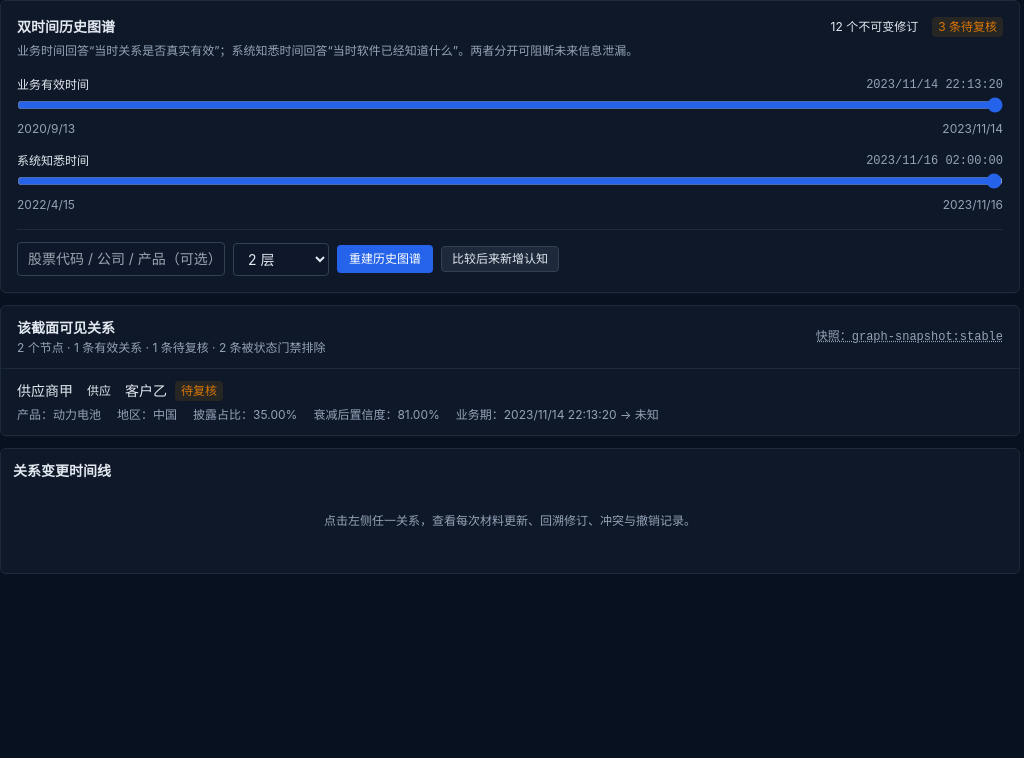
Test: 双时间历史图谱工作台 › 明确区分两种时间并可展开完整关系修订时间线
Expected: the text "双时间历史图谱" is shown, [17,18,115,35]
Expected: the text "业务时间回答“当时关系是否真实有效”；系统知悉时间回答“当时软件已经知道什么”。两者分开可阻断未来信息泄漏。" is shown, [17,41,638,61]
What coordinates should you click on to do the following:
click the text "供应商甲"
I would click on:
 (45, 391)
Its box is [17,381,73,401].
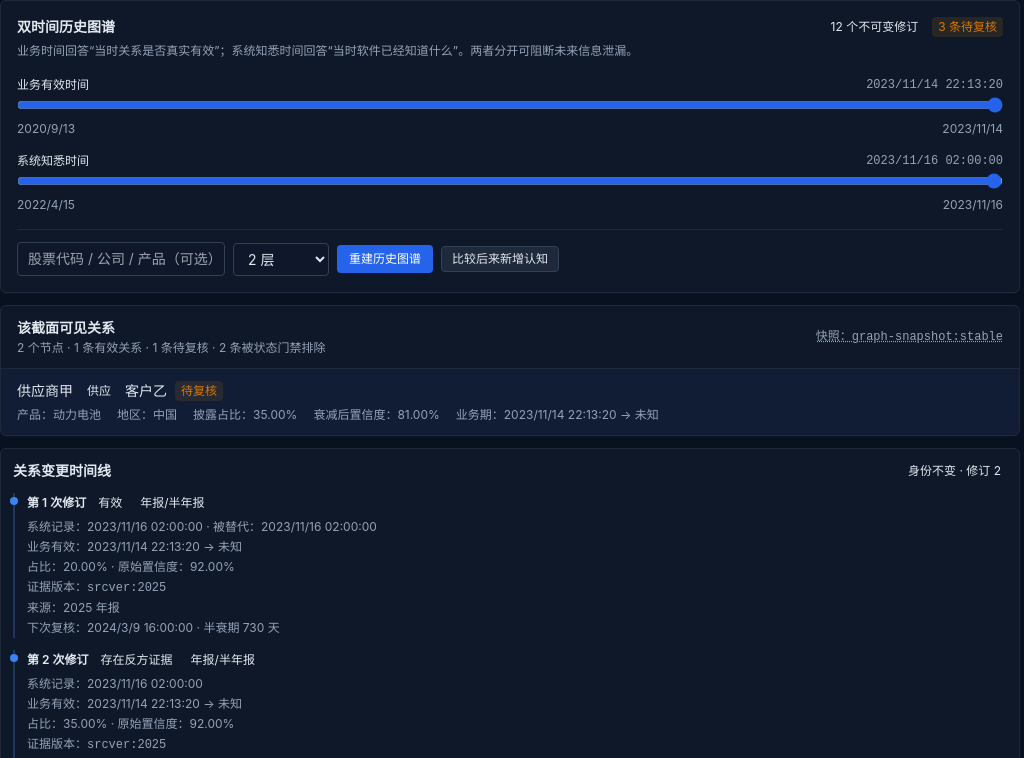
Now the text "第 1 次修订" is shown, box [27,495,86,511]
Now the text "存在反方证据" is shown, box [94,650,178,670]
Now the text "下次复核：2024/3/9 16:00:00 · 半衰期 730 天" is shown 2 times
